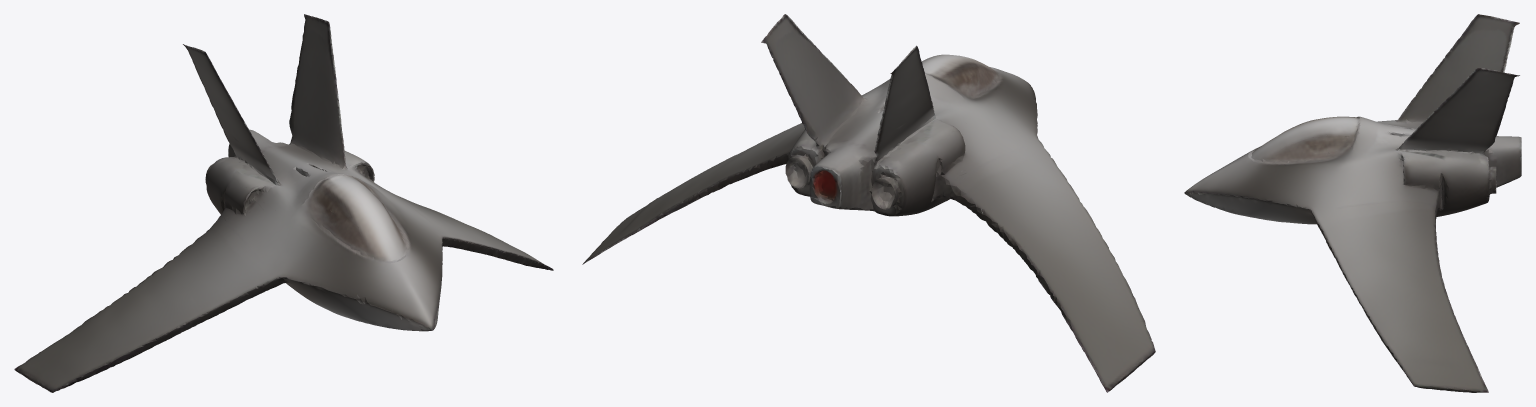
The model's file is phantom_engine_main.glb.
3 views of the same model, side by side, from view 1: azimuth 30°, elevation 25°; view 2: azimuth 150°, elevation 25°; view 3: azimuth 270°, elevation 25° (orthographic). The views are drawn at different scales.
Parts seen in each view (by area): view 1: phantom_engine_main; view 2: phantom_engine_main; view 3: phantom_engine_main.
Part boxes in pixels (x1,y1,x2,y2): phantom_engine_main: (14, 14, 553, 392); phantom_engine_main: (582, 14, 1155, 392); phantom_engine_main: (1184, 14, 1521, 392).
Size of the model in its own units: 1.89 by 1 by 1.25.
1 material, 1 textured.
